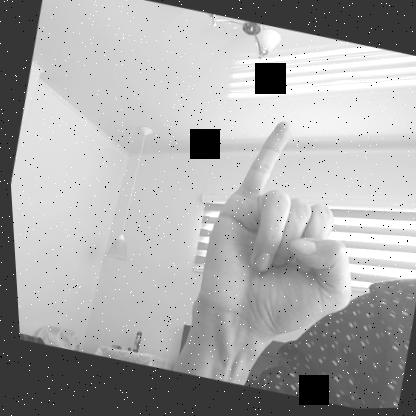I: (179, 106, 385, 348)
